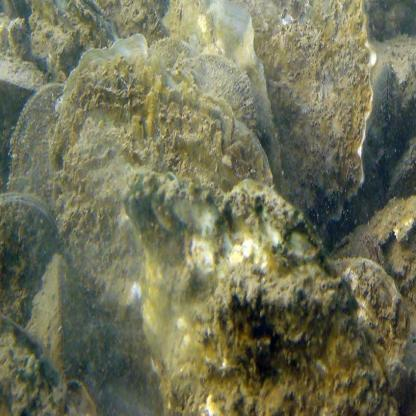Oyster- Indeterminate: (0, 191, 58, 324)
Oyster-Closed: (47, 33, 274, 416), (124, 176, 399, 416), (244, 0, 375, 240), (164, 0, 274, 157), (0, 308, 94, 416), (330, 255, 407, 370), (24, 255, 90, 385), (9, 84, 64, 220), (177, 55, 256, 130), (369, 63, 401, 185), (114, 0, 169, 47), (0, 52, 46, 102), (380, 362, 416, 416), (148, 40, 195, 67)
